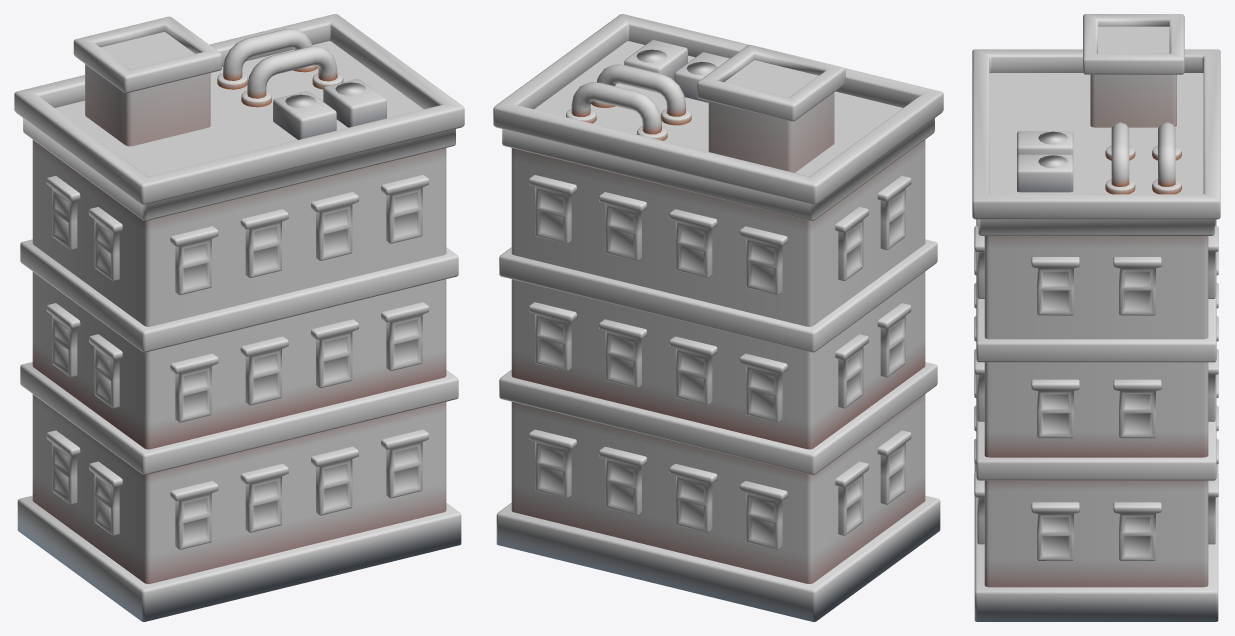
Rendered from Building_074.fbx.
3 renders of one model, left to right at view 1: azimuth 30°, elevation 25°; view 2: azimuth 150°, elevation 25°; view 3: azimuth 270°, elevation 25°, orthographic. The views are drawn at different scales.
Parts seen in each view (by area): view 1: Building_074; view 2: Building_074; view 3: Building_074.
Boxes of the visible parts, x1=… form: Building_074: x1=14, y1=14, x2=464, y2=621; Building_074: x1=493, y1=14, x2=943, y2=621; Building_074: x1=972, y1=14, x2=1220, y2=621.
Size of the model in its own units: 967 by 667 by 1413.
